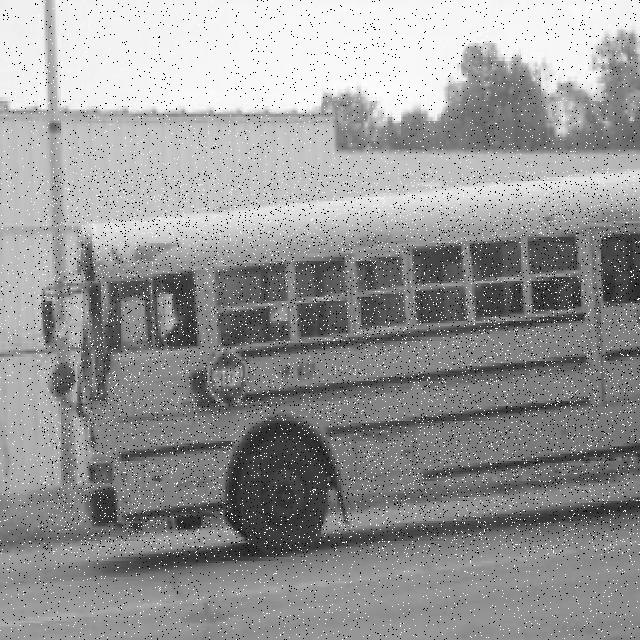Bus: (38, 171, 640, 557)
